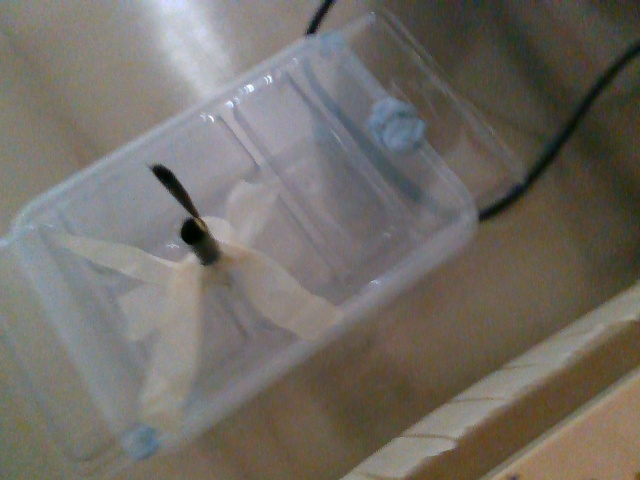test_strip: (146, 162, 206, 232)
